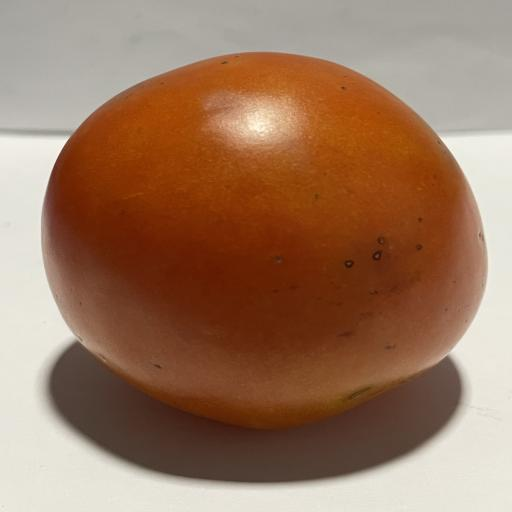unripe: (42, 52, 486, 428)
